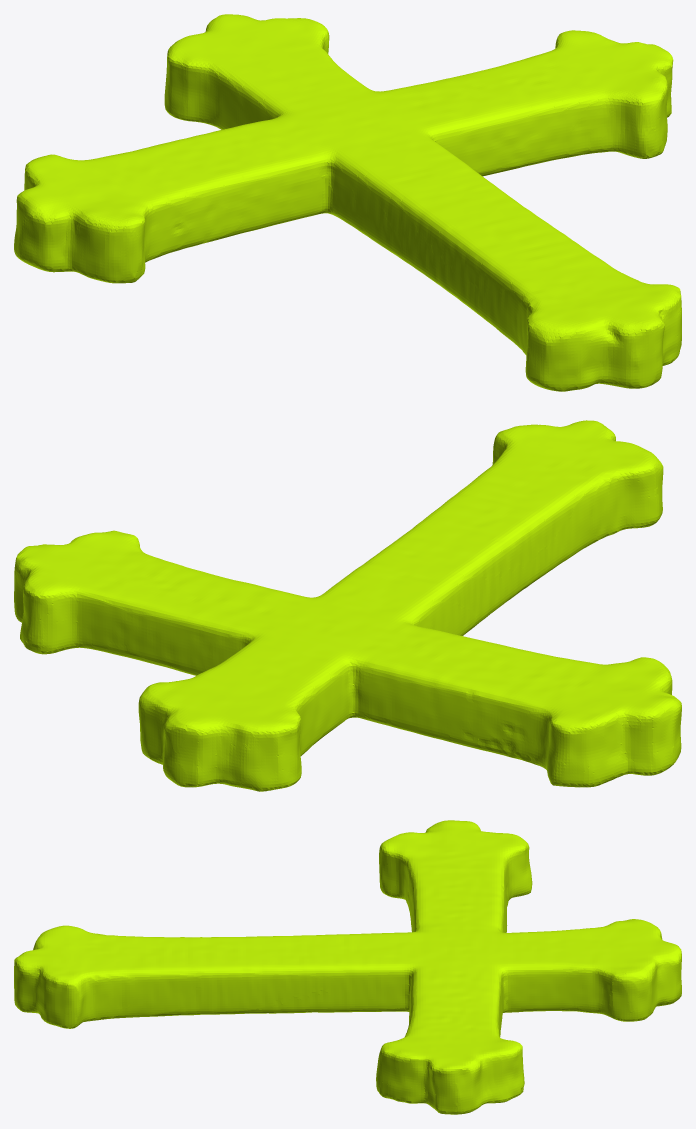
File: crucifix.glb
The picture shows the model from 3 angles, top to bottom: view 1: azimuth 30°, elevation 25°; view 2: azimuth 150°, elevation 25°; view 3: azimuth 270°, elevation 25°; orthographic projection. The views are drawn at different scales.
Visible parts, largest first — view 1: 5a82a068-a2ba-4827-afd8-dc383a4ff782; view 2: 5a82a068-a2ba-4827-afd8-dc383a4ff782; view 3: 5a82a068-a2ba-4827-afd8-dc383a4ff782.
Boxes of the visible parts, x1,y1,x2,y2 form: 5a82a068-a2ba-4827-afd8-dc383a4ff782: (14,14,681,391); 5a82a068-a2ba-4827-afd8-dc383a4ff782: (14,420,681,791); 5a82a068-a2ba-4827-afd8-dc383a4ff782: (14,820,681,1114).
Bounding box in the file's own units: 0.2683 × 0.0287 × 0.3019.
